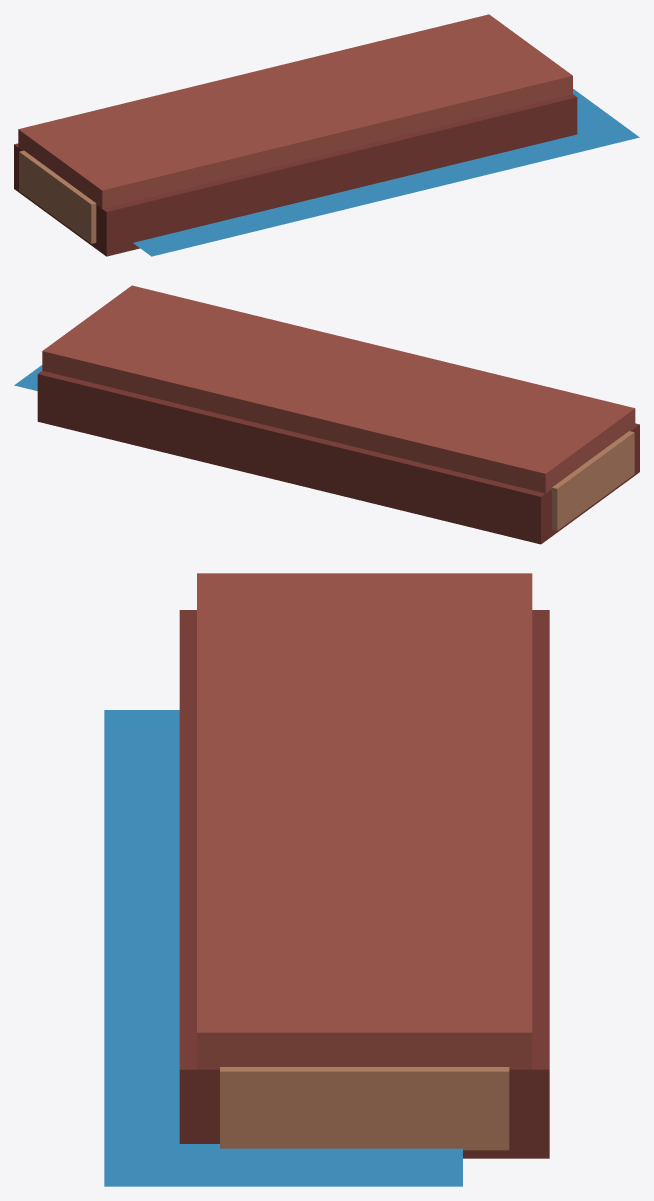
File: log2.obj
The picture shows the model from 3 angles, top to bottom: view 1: azimuth 30°, elevation 25°; view 2: azimuth 150°, elevation 25°; view 3: azimuth 270°, elevation 25°; orthographic projection. The views are drawn at different scales.
Bounding box in the file's own units: 2.07 × 0.24 × 0.77.
